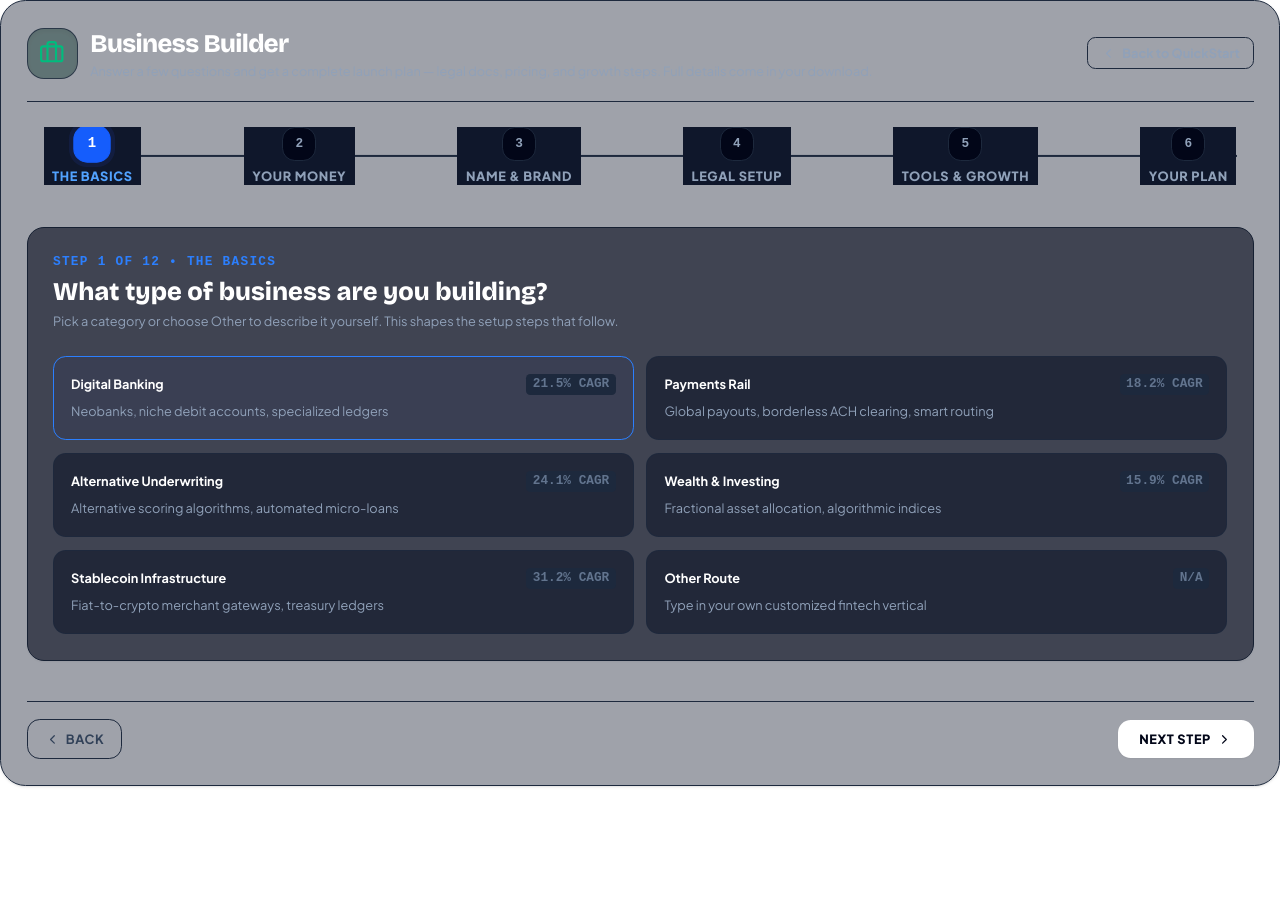
FintechBusinessBuilder › navigates to step 4 via milestone click (adjacent)
This screenshot has width=1280, height=900.
Click the button "2" at (299, 144), box [282, 127, 316, 161]
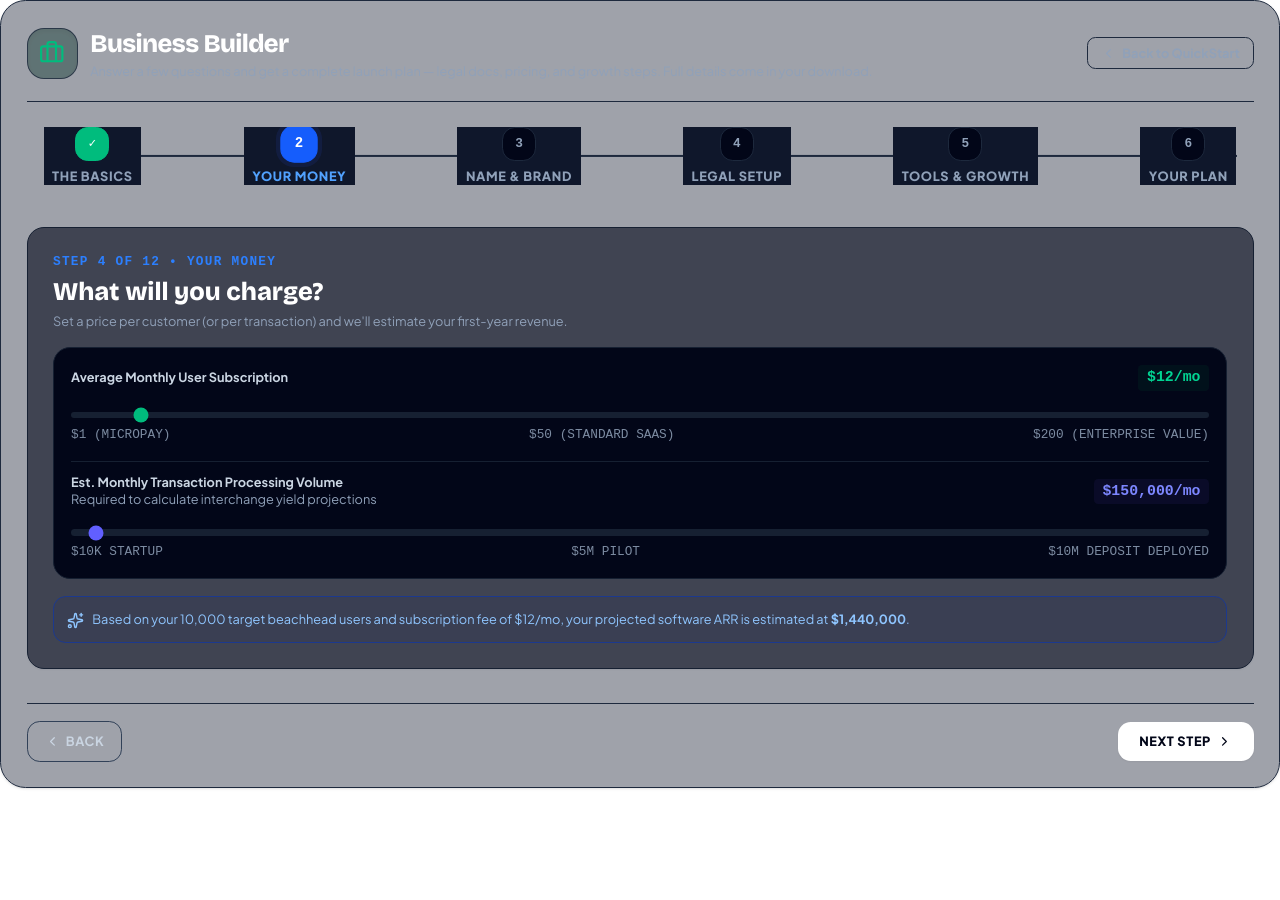
Now the heading "What will you charge?" is shown, box [53, 276, 323, 307]
